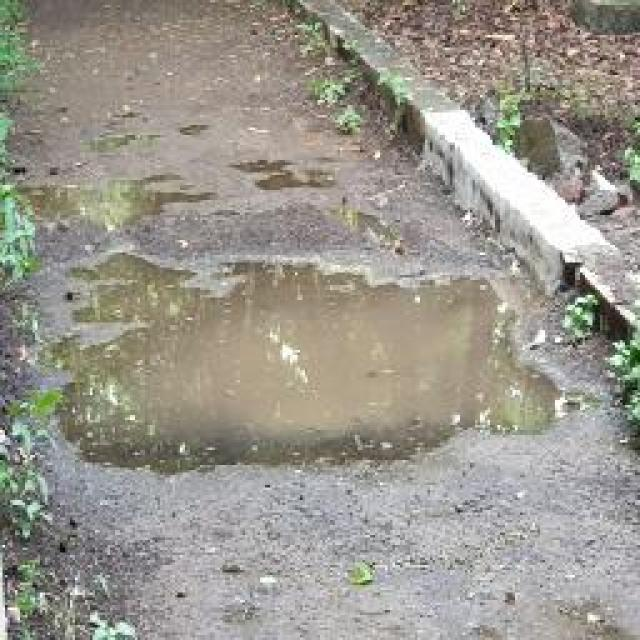puddle: (51, 252, 572, 471)
